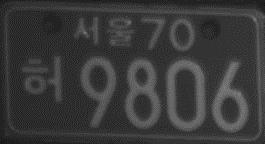0: (165, 59, 207, 132), (167, 17, 197, 54)
6: (209, 59, 250, 135)
7: (138, 15, 166, 51)
8: (122, 55, 163, 132)
9: (77, 55, 119, 130)
서울_O: (72, 14, 135, 49)
허: (20, 53, 63, 102)
